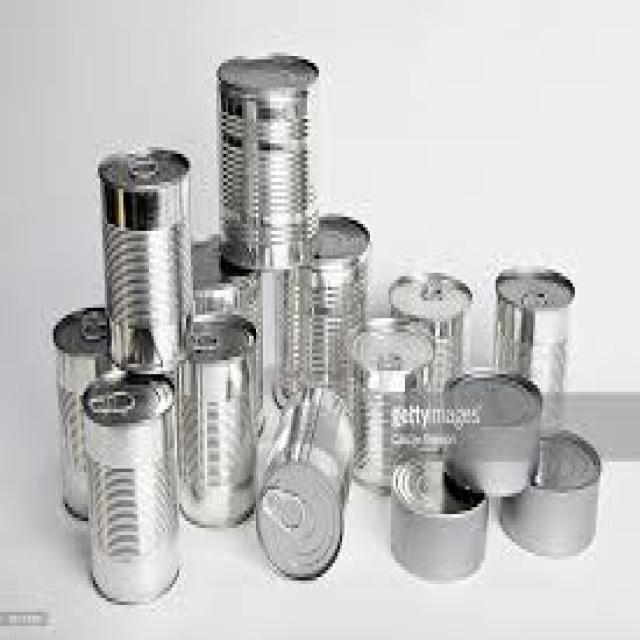metal: (79, 367, 179, 602), (212, 52, 321, 266), (96, 147, 196, 371), (256, 385, 351, 584), (272, 214, 368, 410), (175, 308, 259, 525), (344, 315, 433, 497), (49, 304, 119, 518), (496, 430, 600, 560), (440, 367, 540, 500), (391, 444, 486, 581), (493, 262, 575, 402), (386, 269, 470, 388), (191, 231, 258, 325), (261, 483, 300, 532), (86, 381, 135, 413), (77, 304, 105, 336)
